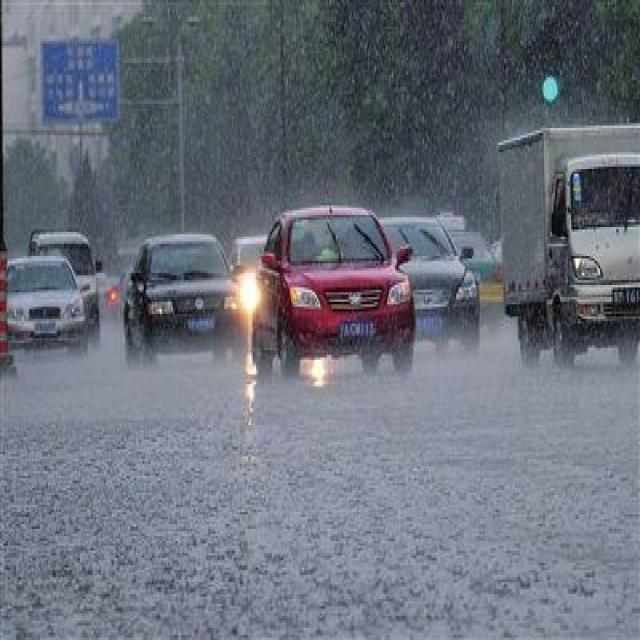car: (492, 123, 636, 362), (248, 203, 413, 369), (120, 232, 246, 351), (370, 212, 480, 348), (0, 252, 90, 346), (24, 224, 101, 324)
